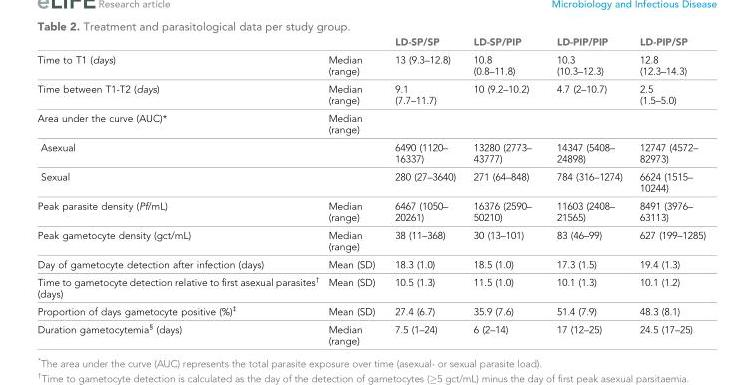table: (36, 36, 705, 345)
table column: (36, 36, 323, 345), (543, 36, 630, 345), (463, 36, 543, 345), (384, 36, 463, 345), (630, 36, 705, 345), (323, 36, 384, 345)
table column header: (36, 36, 705, 50)
table row: (36, 50, 705, 80), (36, 167, 705, 197), (36, 80, 705, 109), (36, 109, 705, 138), (36, 138, 705, 167), (36, 197, 705, 226), (36, 226, 705, 255), (36, 272, 705, 301), (36, 319, 705, 345), (36, 301, 705, 319), (36, 255, 705, 272), (36, 36, 705, 50)
